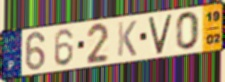0: (174, 10, 204, 52)
2: (86, 21, 110, 66)
6: (53, 26, 75, 69), (25, 30, 47, 72)
K: (116, 19, 138, 58)
V: (147, 12, 173, 56)
